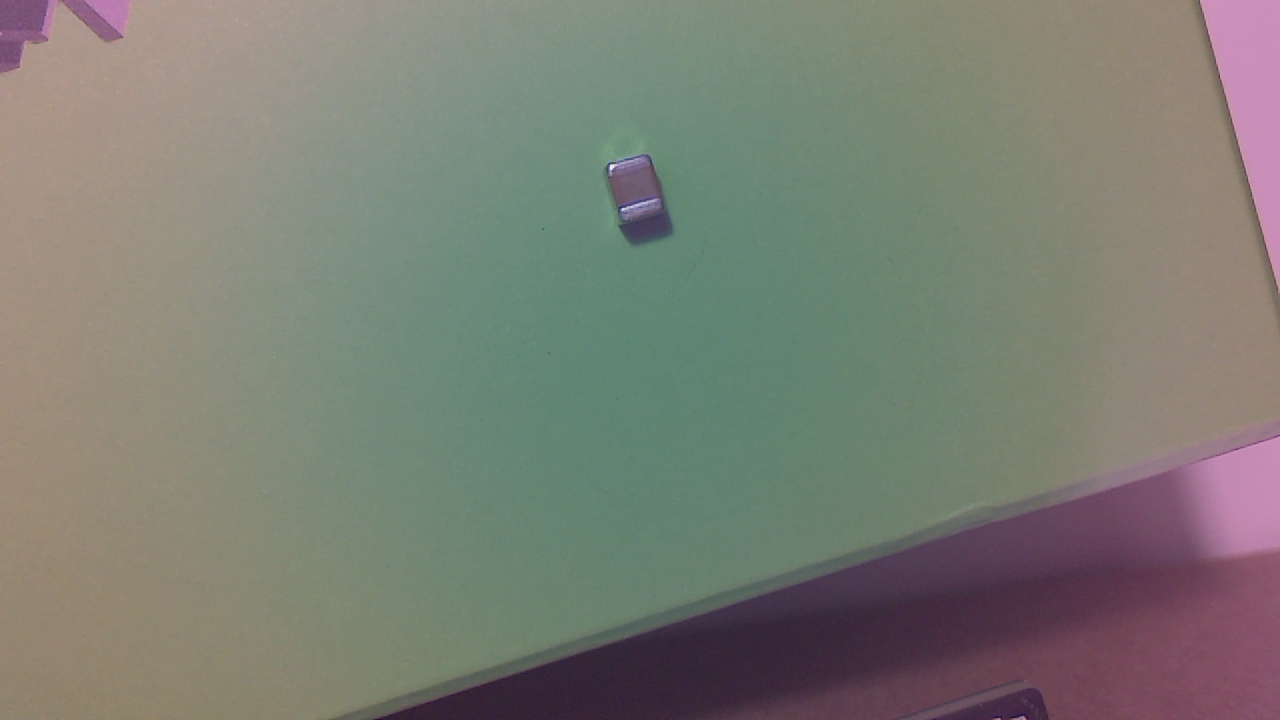Condensator: (607, 159, 672, 234)
